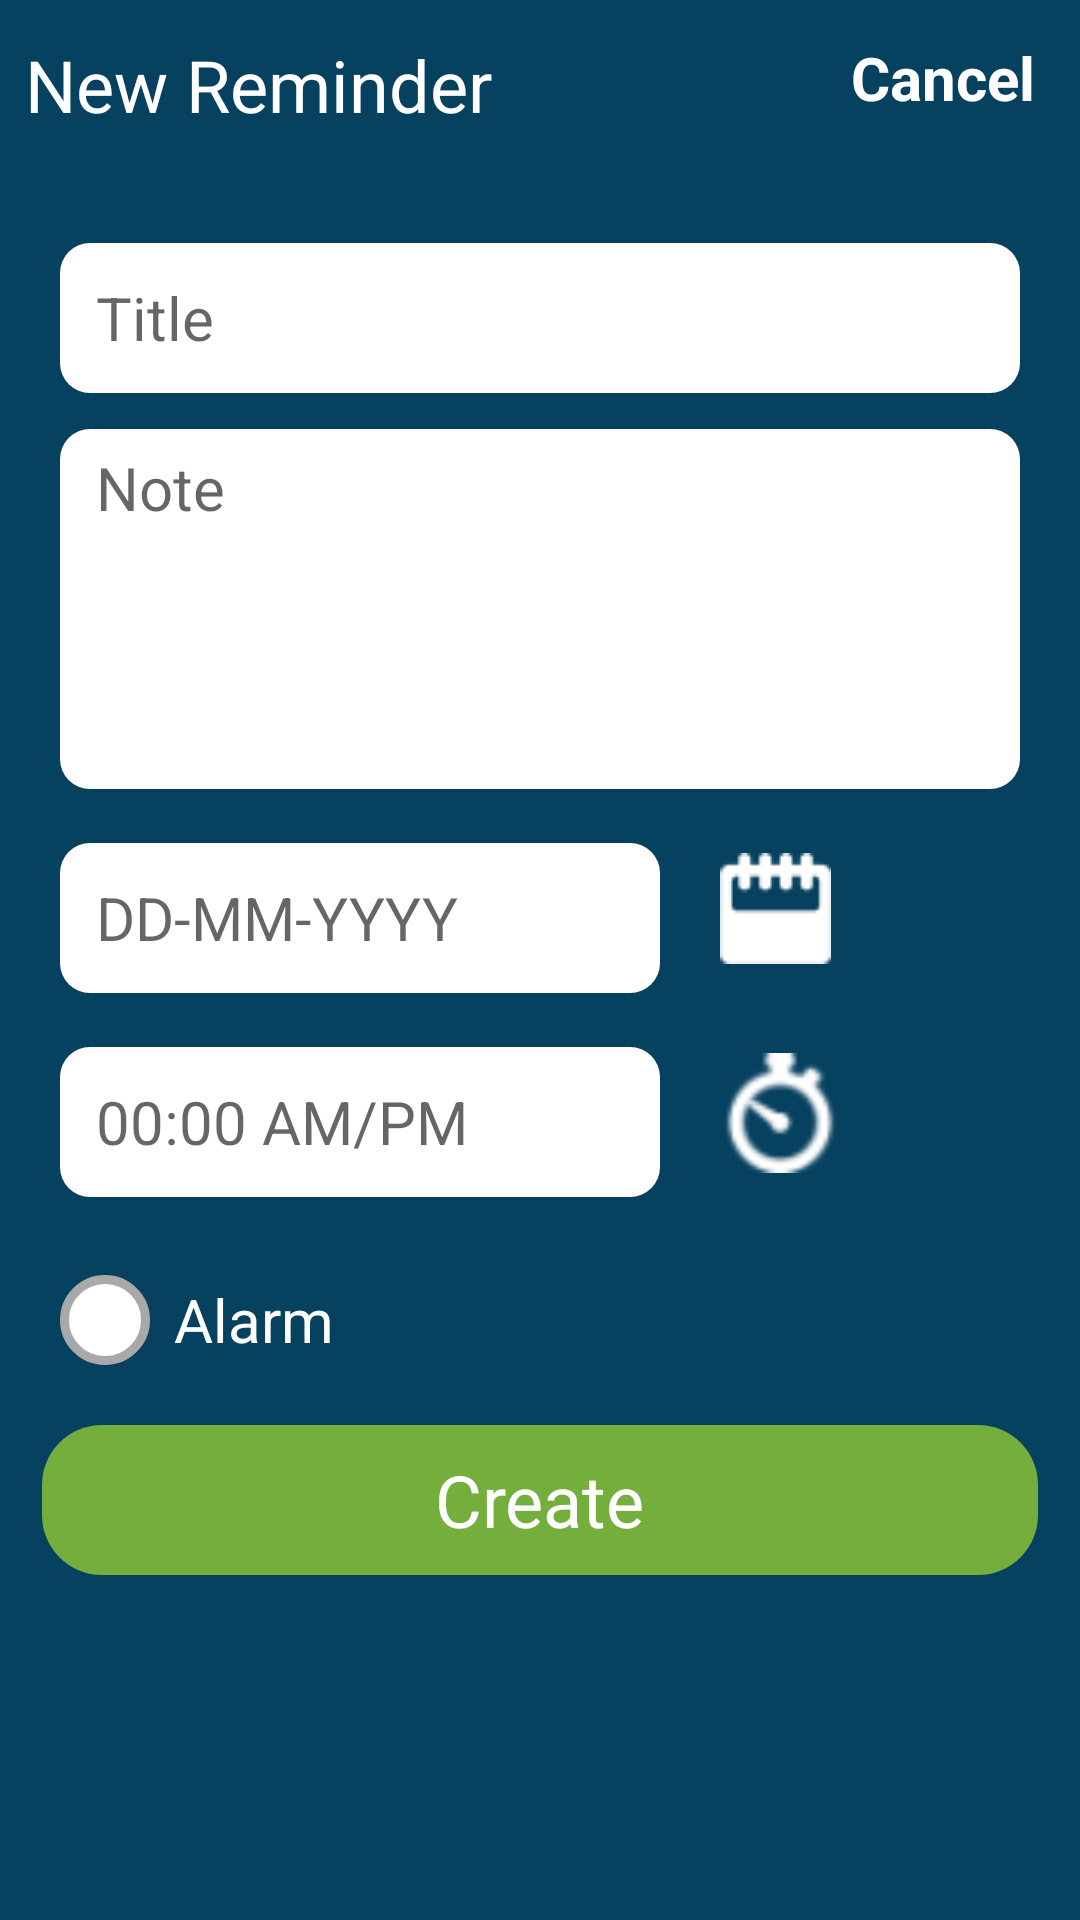

Icons on this 1080*1920 Android screen, each with the point to tap as (x=x, y=y):
calender: (x=775, y=908)
time: (x=780, y=1113)
